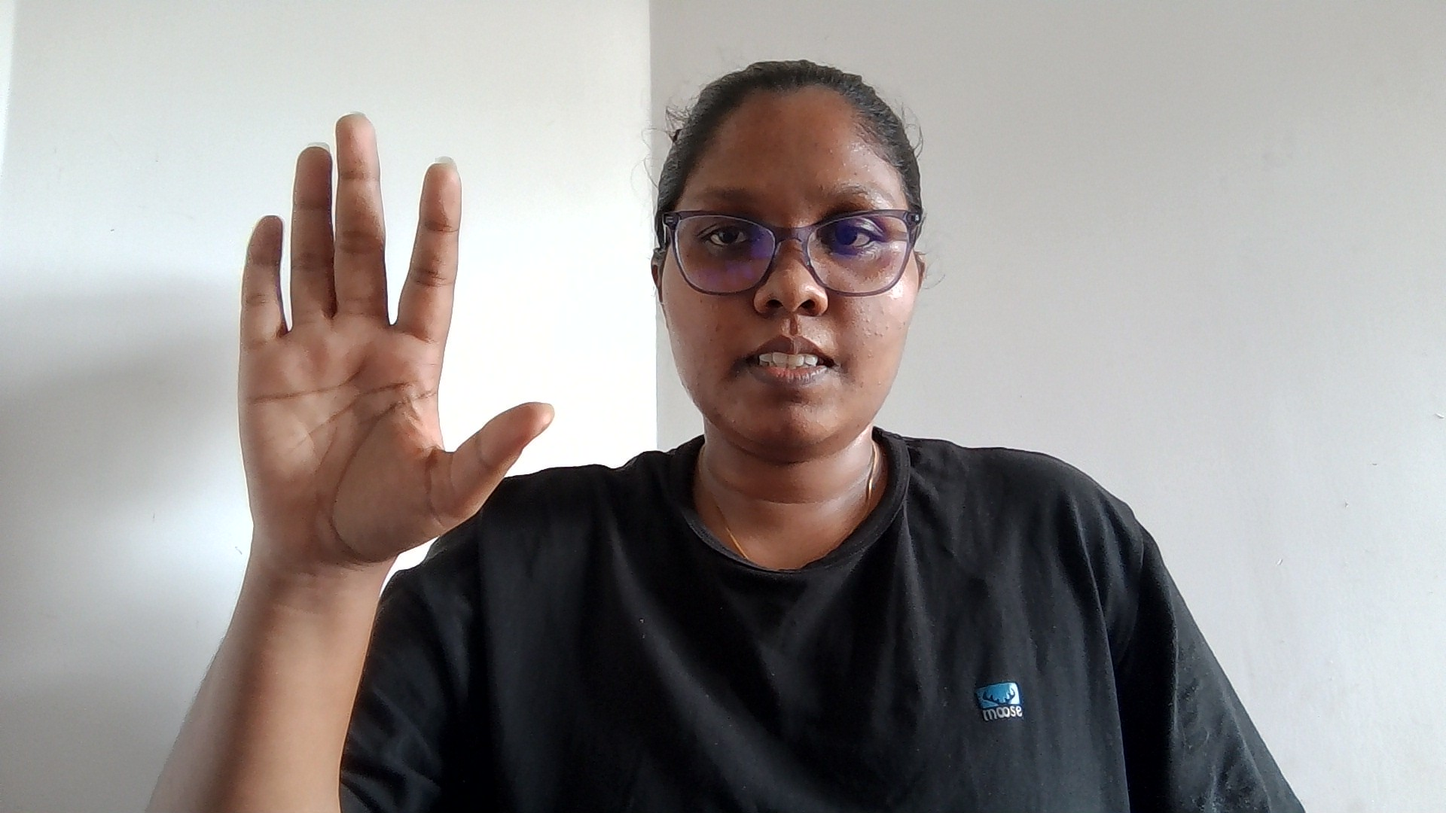Hello: (201, 53, 644, 616)
